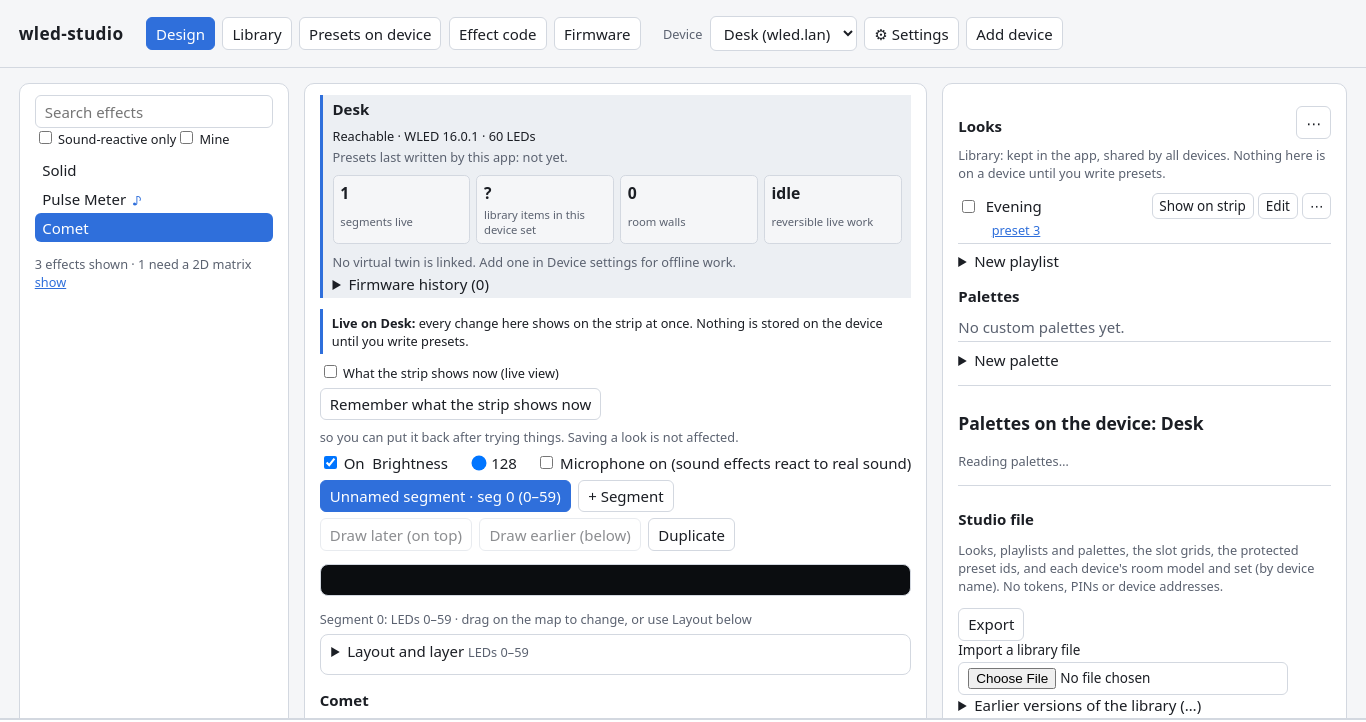
Test case: Design and Library are separate jobs; the legacy root remains combined
Expected: the heading "Comet" is shown, left=320, top=690, right=369, bottom=710
Expected: the element "Looks" is shown, left=958, top=101, right=1331, bottom=244
Click the button "Design".
click(180, 34)  # box left=146, top=17, right=215, bottom=50
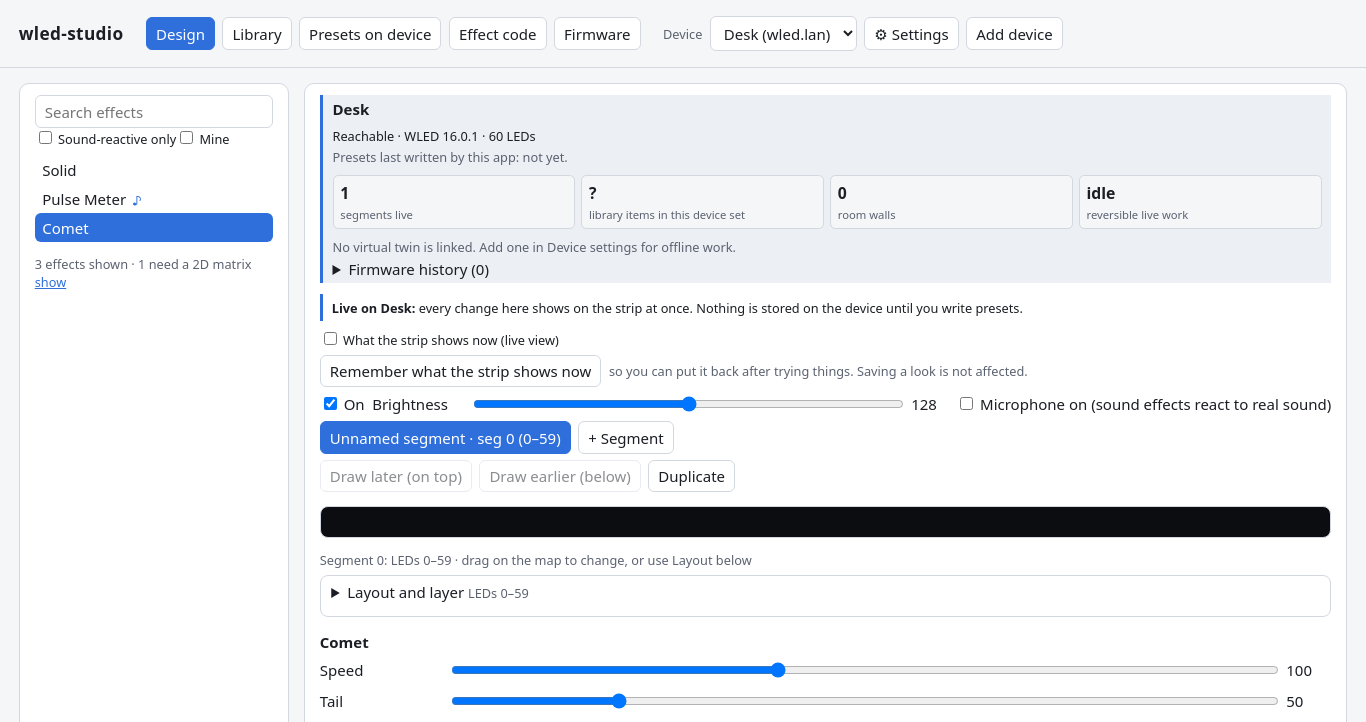
Expected: the heading "Comet" is shown, left=320, top=632, right=369, bottom=652
Expected: the heading "Looks" is gone
Click the button "Library".
click(257, 34)  # box left=222, top=17, right=292, bottom=50
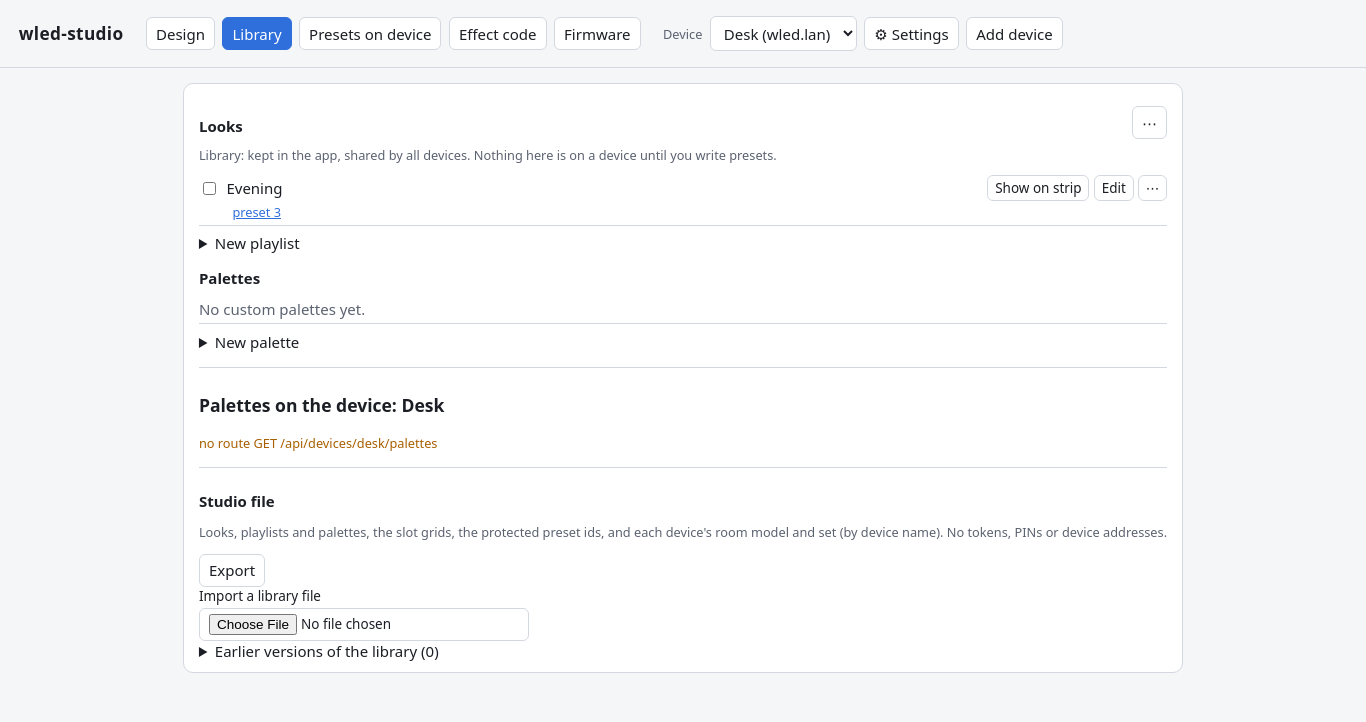
Expected: the element "Looks" is shown, left=199, top=101, right=1167, bottom=226
Expected: the option "Comet" is gone
Expected: the list "effects" is gone
